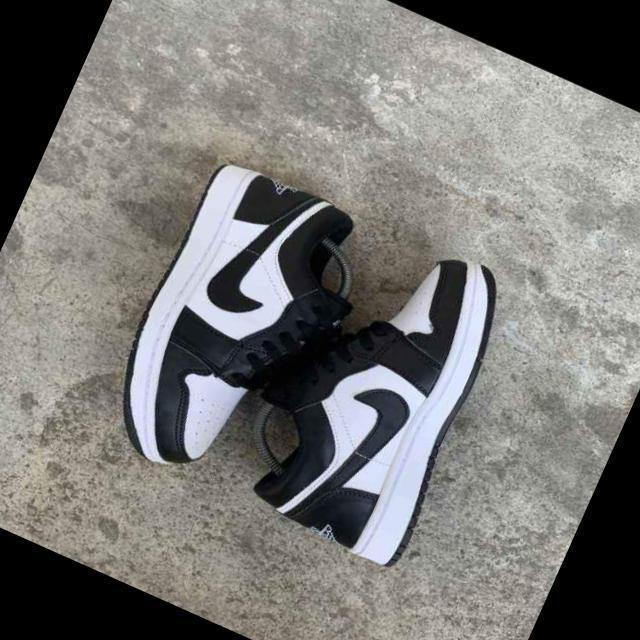nike fake jordan 1: (214, 205, 525, 576), (85, 151, 389, 519)
